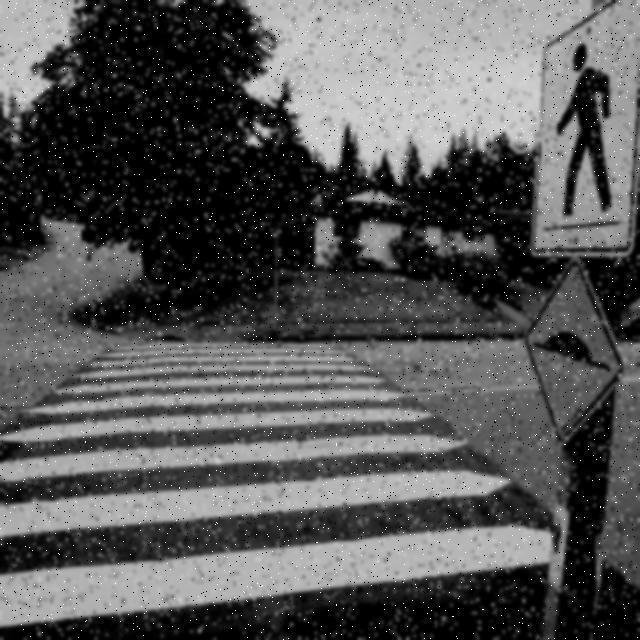crosswalk: (0, 342, 581, 627)
